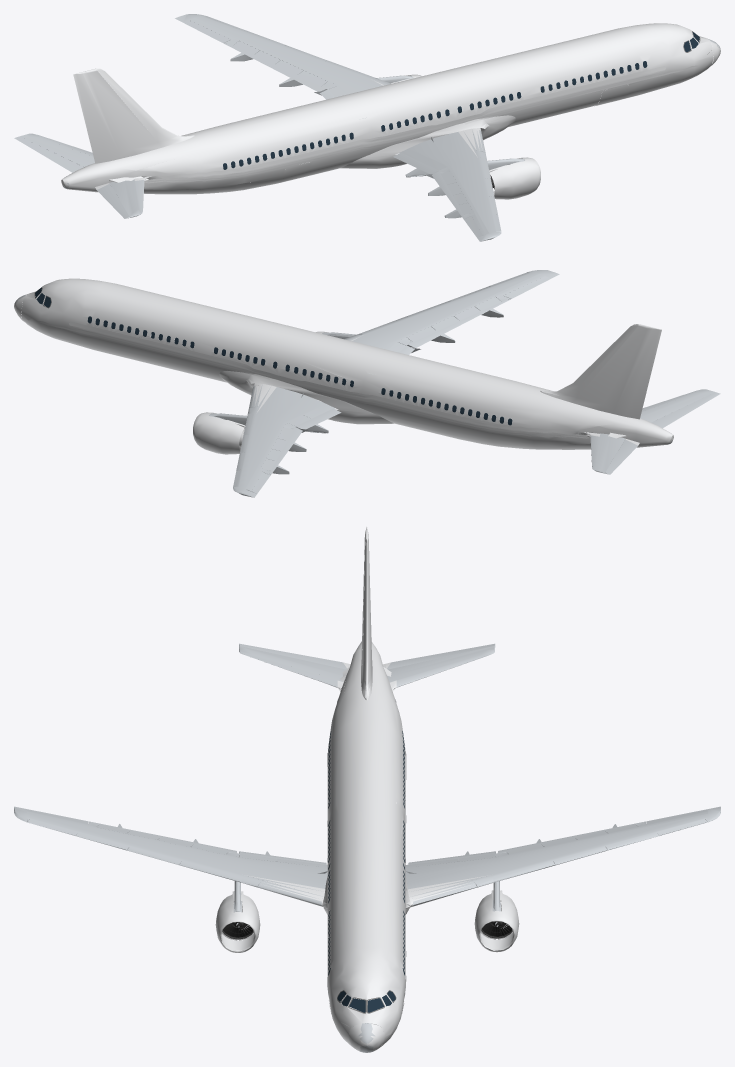
3 renders of one model, top to bottom at view 1: azimuth 30°, elevation 25°; view 2: azimuth 150°, elevation 25°; view 3: azimuth 270°, elevation 25°, orthographic. The views are drawn at different scales.
Visible parts, largest first — view 1: hull, wing, tail, band-cheatline, engine, glass, band-belly-trim, band-tailcone-trim, band-cheatline-trim; view 2: hull, wing, tail, band-cheatline, engine, glass, band-belly-trim, band-cheatline-trim, band-tailcone-trim; view 3: hull, wing, tail, engine, glass.
Part boxes in pixels (<box>): hull: <box>61,23,720,194</box>; wing: <box>14,14,720,241</box>; tail: <box>62,68,342,180</box>; band-cheatline: <box>109,66,665,182</box>; engine: <box>391,74,540,199</box>; glass: <box>223,32,699,169</box>; band-belly-trim: <box>144,65,698,183</box>; band-tailcone-trim: <box>230,67,665,172</box>; band-cheatline-trim: <box>144,72,663,181</box>; hull: <box>14,278,673,449</box>; wing: <box>14,270,720,497</box>; tail: <box>391,324,672,435</box>; band-cheatline: <box>69,321,626,438</box>; engine: <box>193,331,328,454</box>; glass: <box>35,287,512,425</box>; band-belly-trim: <box>36,321,590,438</box>; band-cheatline-trim: <box>71,327,589,437</box>; band-tailcone-trim: <box>69,323,504,427</box>; hull: <box>247,642,487,1051</box>; wing: <box>14,643,720,1052</box>; tail: <box>351,526,381,783</box>; engine: <box>215,890,519,952</box>; glass: <box>328,731,405,1012</box>.
Size of the model in its own units: 44.5 by 11.38 by 35.8.
